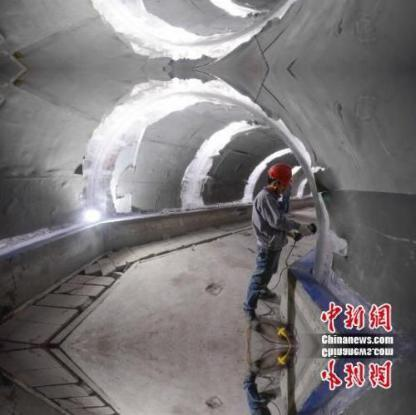helmet: (264, 157, 295, 186)
